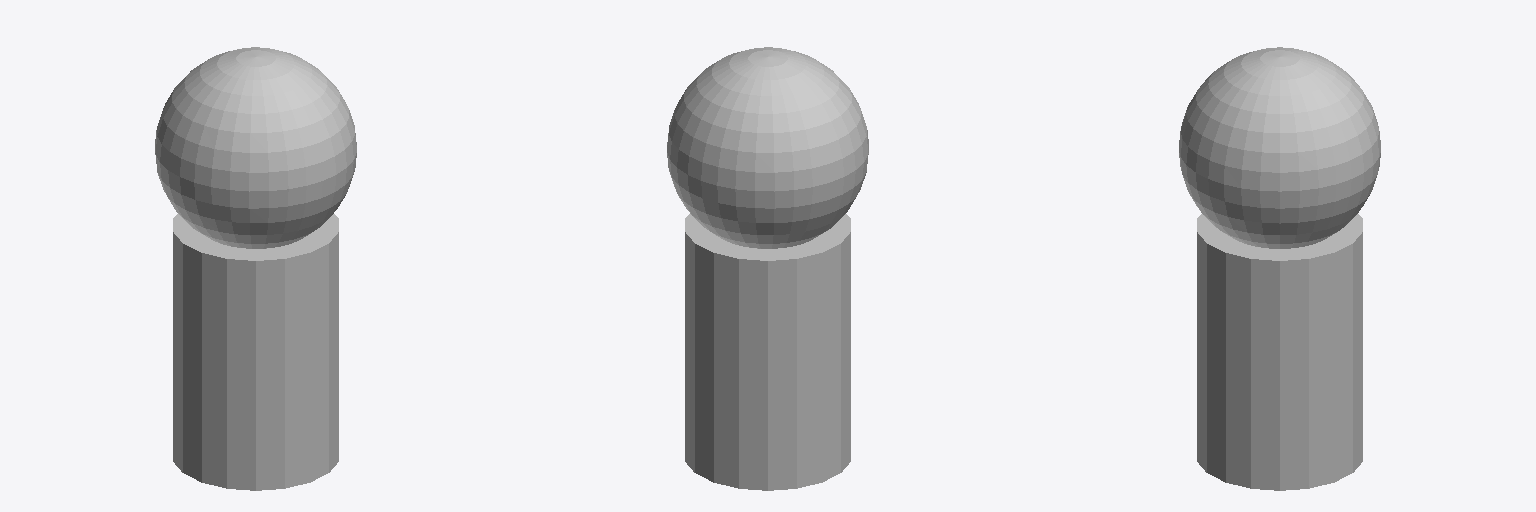
File: arm.obj
3 views of the same model, side by side, from view 1: azimuth 30°, elevation 25°; view 2: azimuth 150°, elevation 25°; view 3: azimuth 270°, elevation 25° (orthographic).
Parts seen in each view (by area): view 1: rightHandPP; view 2: rightHandPP; view 3: rightHandPP.
Part boxes in pixels (x1,y1,x2,y2): rightHandPP: (155, 47, 356, 490); rightHandPP: (667, 47, 868, 490); rightHandPP: (1179, 47, 1380, 490).
Bounding box in the file's own units: 2.4 × 5.2 × 2.4.